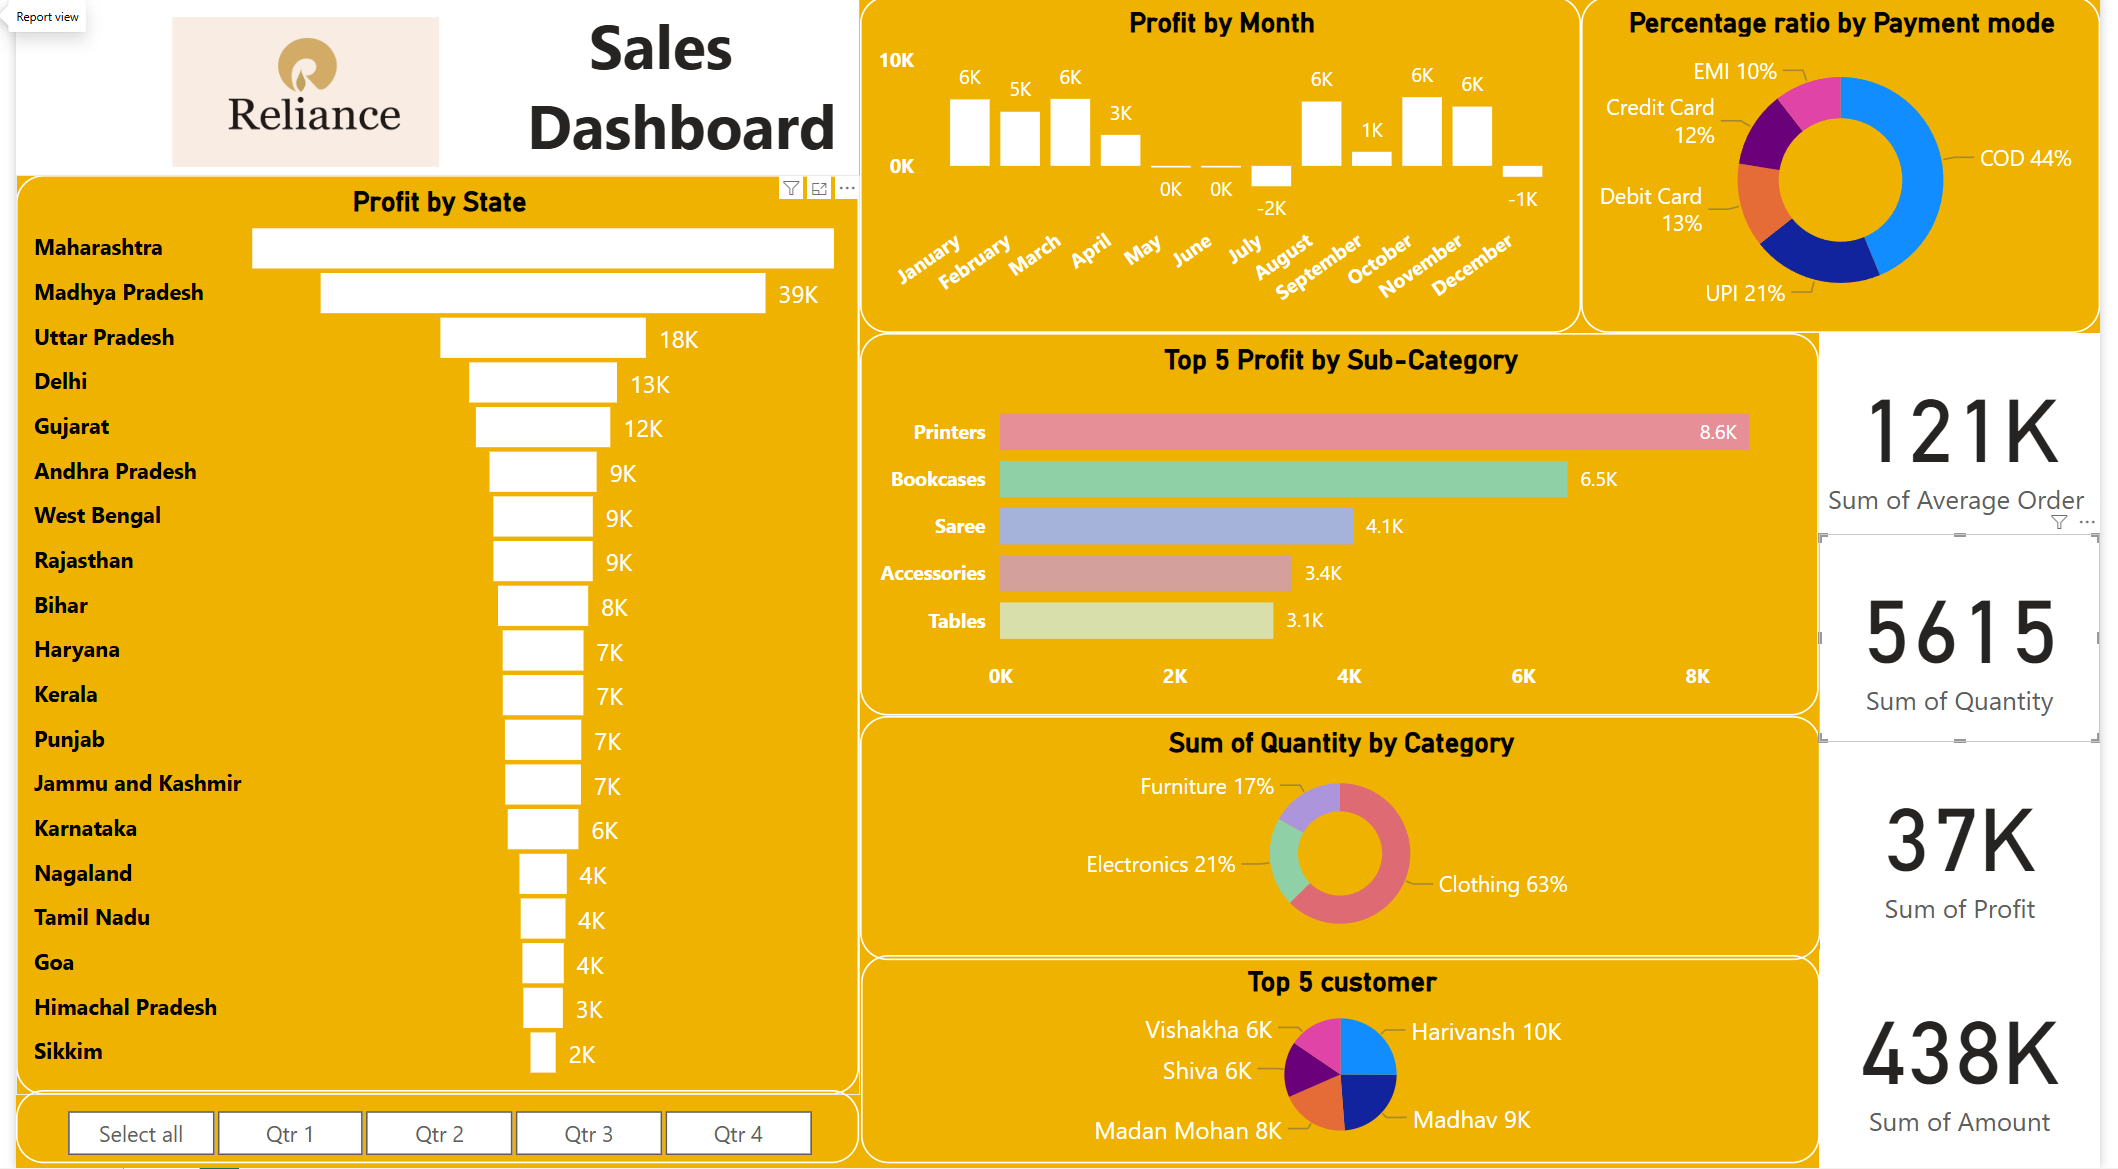

What the dashboard file says about the page in this screenshot:
{"tool":"powerbi","page":{"name":"Page 1","canvas":[1280,720],"ordinal":0},"visuals":[{"type":"textbox","box":[0,0,518.3,109.8],"z":0},{"type":"columnChart","title":"Profit by Month","fields":{"Y":["Details.Profit"],"Category":["Orders.Order date.Variation.Date Hierarchy.Month"]},"box":[518.5,0,442.9,207],"z":2},{"type":"barChart","title":"Top 5 Profit by Sub-Category","fields":{"Y":["Details.Profit"],"Category":["Details.Sub-Category"]},"box":[518.5,207,589.1,235.3],"z":3},{"type":"donutChart","fields":{"Category":["Details.Category"],"Y":["Details.Quantity"]},"box":[518.5,442.3,589.8,149.9],"z":4},{"type":"image","box":[0,7.9,355.2,102],"z":5},{"type":"donutChart","title":"Percentage ratio by Payment mode","fields":{"Y":["Details.Quantity"],"Category":["Details.PaymentMode"]},"box":[961.4,0,318.8,207],"z":6},{"type":"card","fields":{"Values":["Details.average order value"]},"box":[1107.6,207,172.6,127.8],"z":7},{"type":"card","fields":{"Values":["Details.Profit"]},"box":[1108.3,458.3,172,127.8],"z":8},{"type":"card","fields":{"Values":["Details.Quantity"]},"box":[1107.6,330.5,172.6,127.8],"z":9},{"type":"card","fields":{"Values":["Details.Amount"]},"box":[1107.6,586.1,172.6,133.9],"z":10},{"type":"funnel","title":"Profit by State","fields":{"Category":["Orders.State"],"Y":["Details.Amount"]},"box":[0,110,518.5,565.2],"z":11},{"type":"pieChart","title":"Top 5 customer ","fields":{"Category":["Orders.Customer Name"],"Y":["Details.Amount"]},"box":[519.1,589.1,589.1,127.8],"z":12},{"type":"slicer","fields":{"Values":["Orders.Order date.Variation.Date Hierarchy.Quarter"]},"box":[0,672.1,518.5,44.8],"z":13}]}

Visuals, with their boxes on the page's 1280x720 design canvas (x1, y1, x2, y2). These are canvas units, not pixel positions in the 2118x1169 screenshot, which may show the page scaled, cropped or inside an application window:
textbox: [left=0, top=0, right=518, bottom=110]
"Profit by Month" columnChart: [left=518, top=0, right=961, bottom=207]
"Top 5 Profit by Sub-Category" barChart: [left=518, top=207, right=1108, bottom=442]
donutChart - Details.Category x Details.Quantity: [left=518, top=442, right=1108, bottom=592]
image: [left=0, top=8, right=355, bottom=110]
"Percentage ratio by Payment mode" donutChart: [left=961, top=0, right=1280, bottom=207]
card - Details.average order value: [left=1108, top=207, right=1280, bottom=335]
card - Details.Profit: [left=1108, top=458, right=1280, bottom=586]
card - Details.Quantity: [left=1108, top=330, right=1280, bottom=458]
card - Details.Amount: [left=1108, top=586, right=1280, bottom=720]
"Profit by State" funnel: [left=0, top=110, right=518, bottom=675]
"Top 5 customer " pieChart: [left=519, top=589, right=1108, bottom=717]
slicer - Orders.Order date.Variation.Date Hierarchy.Quarter: [left=0, top=672, right=518, bottom=717]
